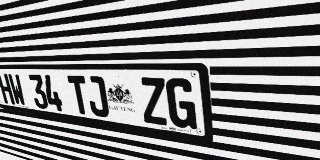3: (28, 74, 49, 109)
4: (42, 75, 64, 111)
G: (165, 78, 197, 130)
H: (0, 74, 15, 105)
J: (85, 76, 110, 118)
T: (67, 75, 91, 115)
W: (7, 74, 27, 106)
Z: (139, 77, 169, 126)
